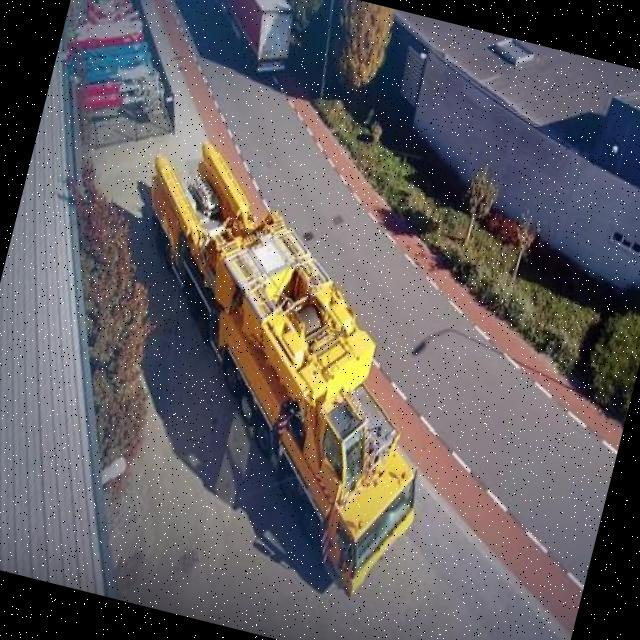Mobile Crane: (61, 130, 490, 612)
